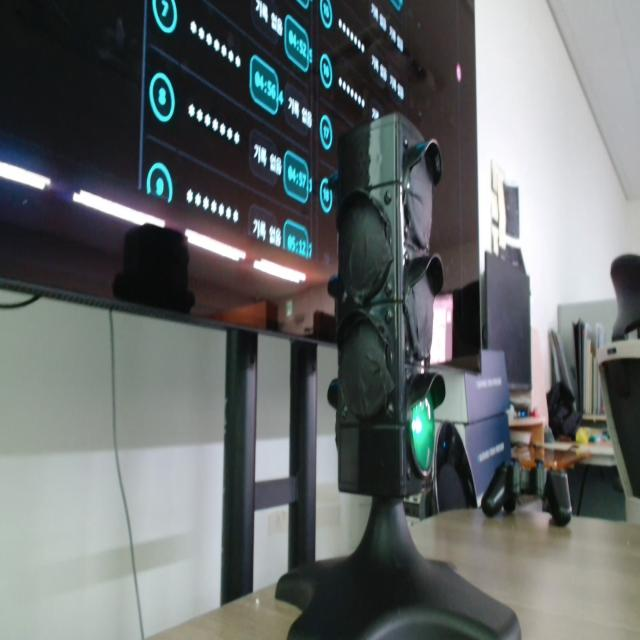green_light: (411, 393, 434, 474)
